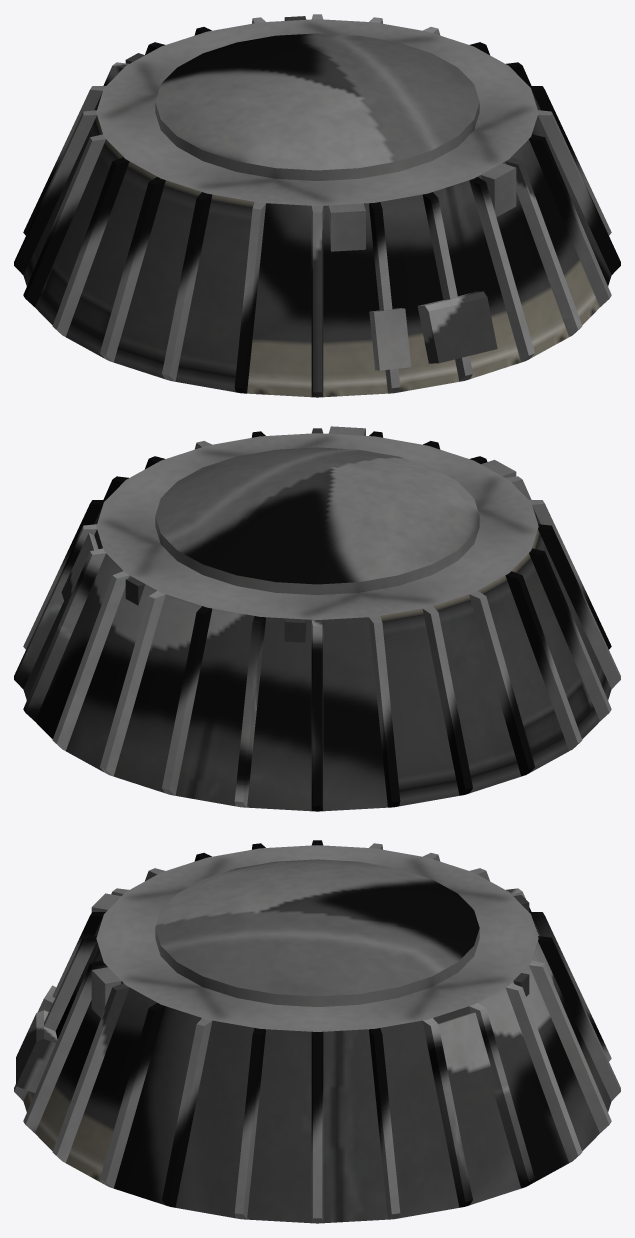
Rendered from fuel_tank.fbx.
3 views of the same model, one above another, from view 1: azimuth 30°, elevation 25°; view 2: azimuth 150°, elevation 25°; view 3: azimuth 270°, elevation 25° (orthographic).
Visible parts, largest first — view 1: mesh; view 2: mesh; view 3: mesh.
Part boxes in pixels (box(x1,y1,x2,y2)): mesh: box(14, 14, 620, 397); mesh: box(14, 426, 620, 811); mesh: box(14, 840, 620, 1223).
Size of the model in its own units: 1.29 by 0.4625 by 1.29.
